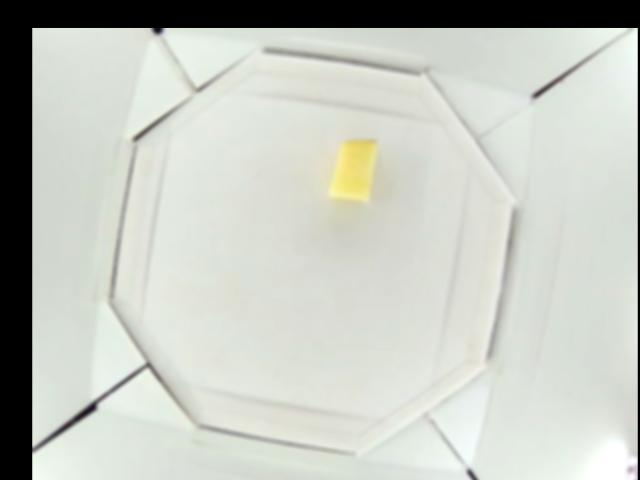Potato: (331, 138, 378, 202)
